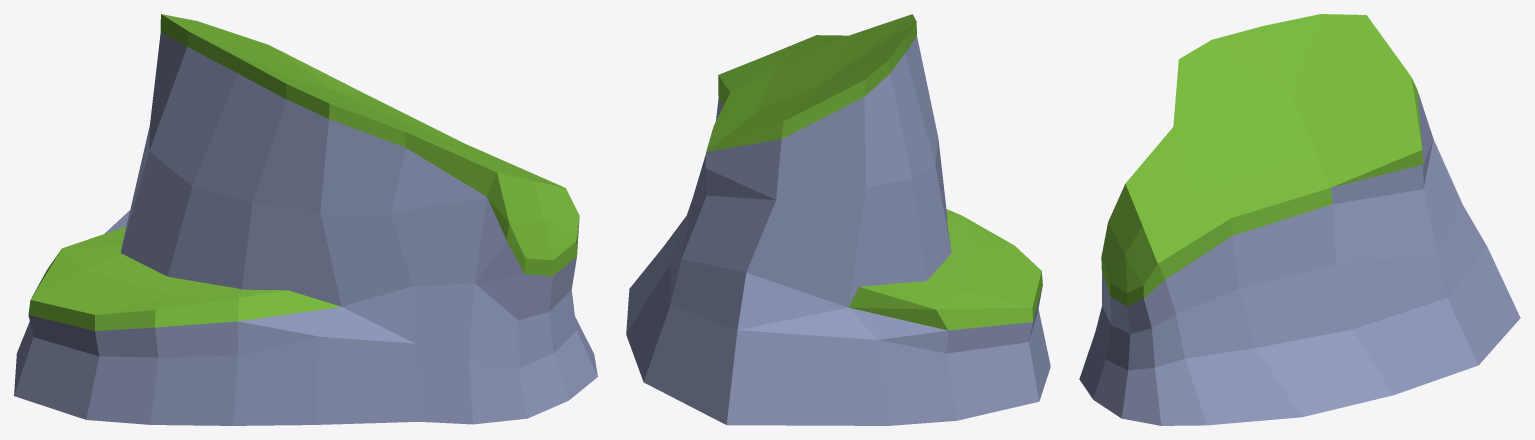
File: Rock_12.fbx
3 views of the same model, side by side, from view 1: azimuth 30°, elevation 25°; view 2: azimuth 150°, elevation 25°; view 3: azimuth 270°, elevation 25° (orthographic). The views are drawn at different scales.
Visible parts, largest first — view 1: Rock_12; view 2: Rock_12; view 3: Rock_12.
Boxes of the visible parts, x1,y1,x2,y2 form: Rock_12: (14, 14, 597, 425); Rock_12: (626, 14, 1050, 425); Rock_12: (1079, 14, 1520, 425).
Bounding box in the file's own units: 6.81 × 4.48 × 6.32.
